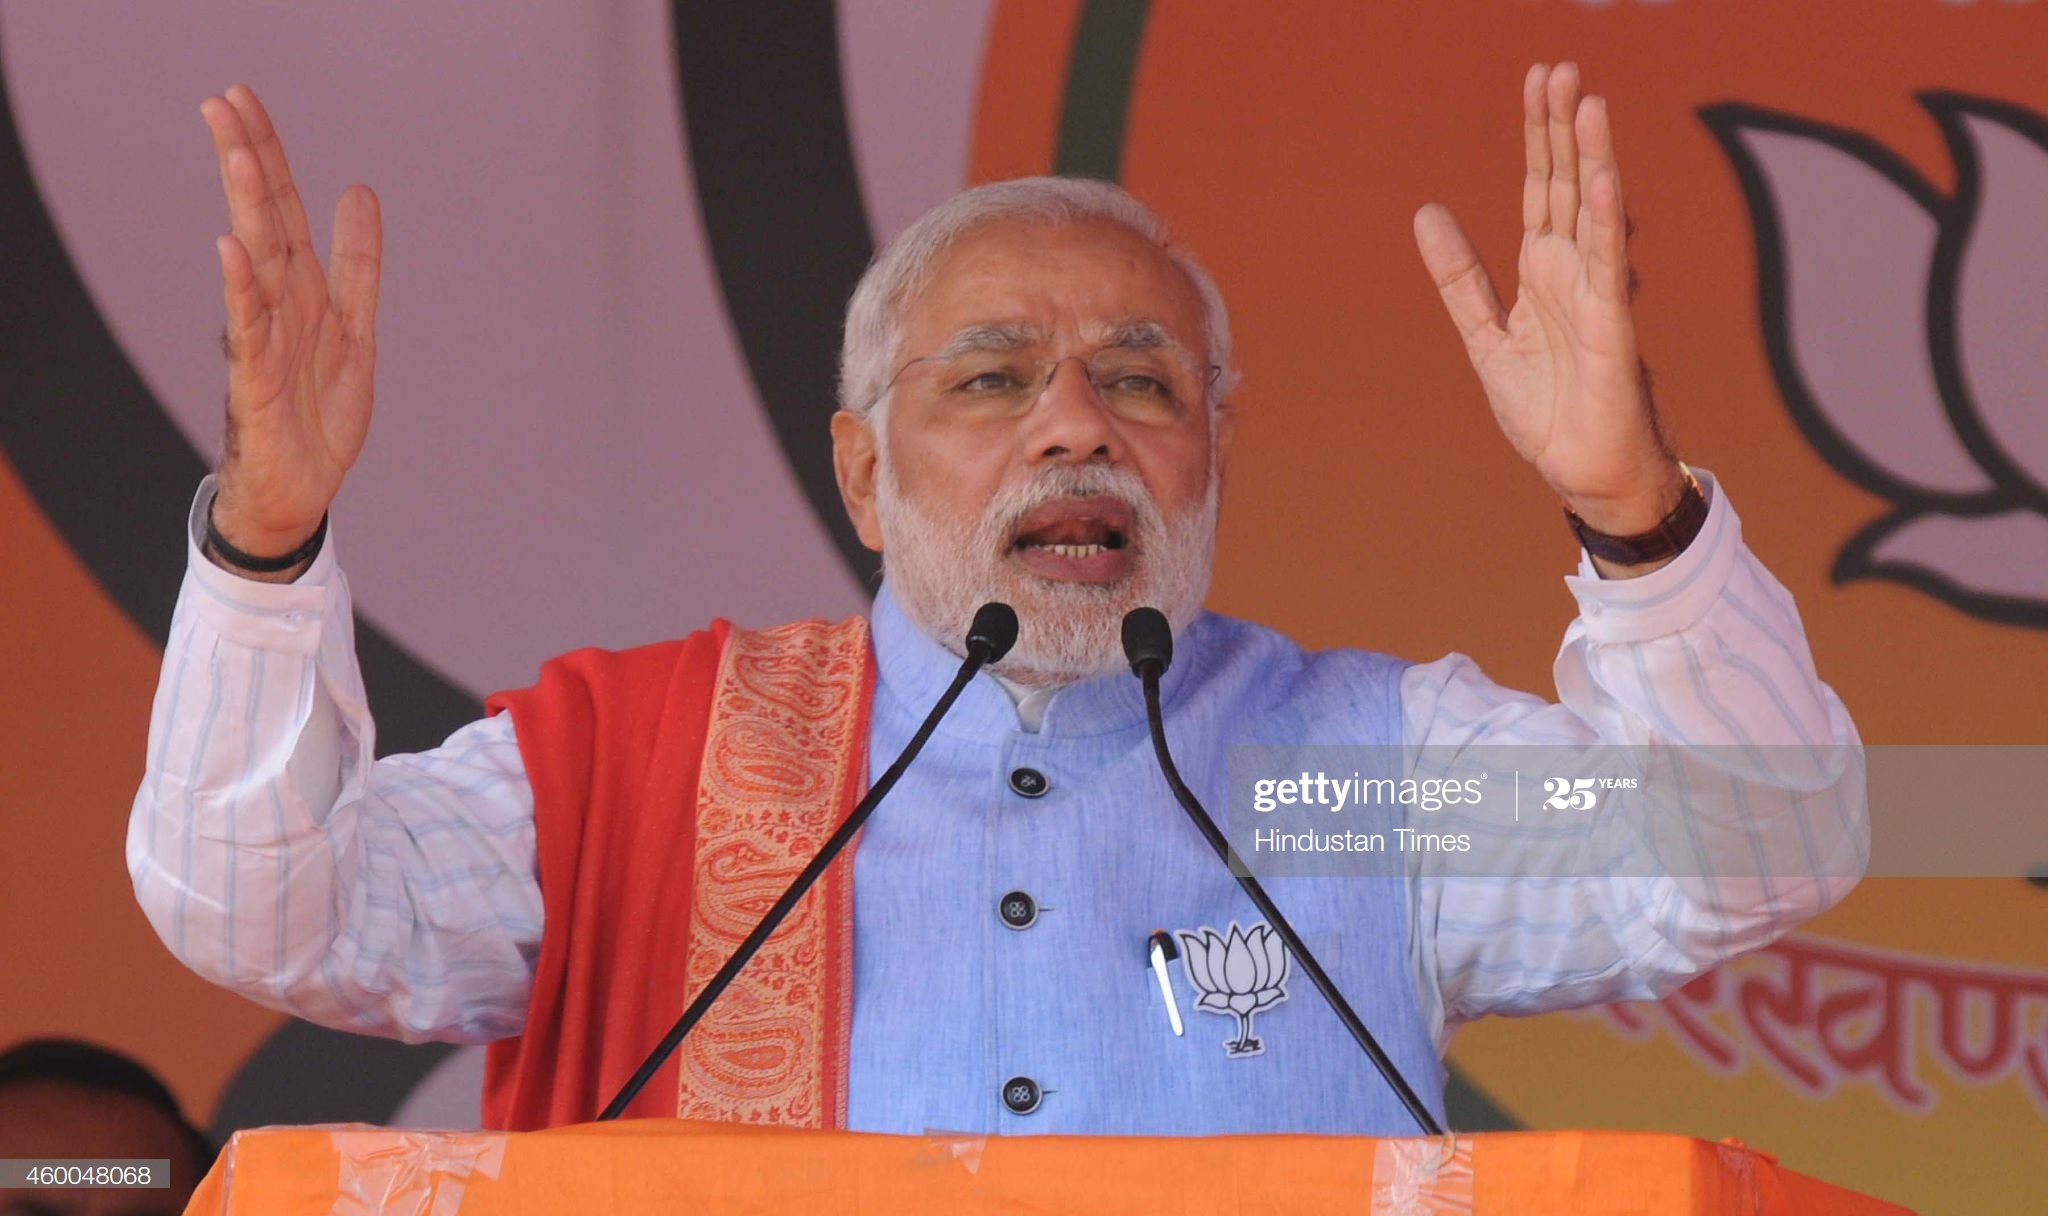modi: (729, 130, 1356, 757)
